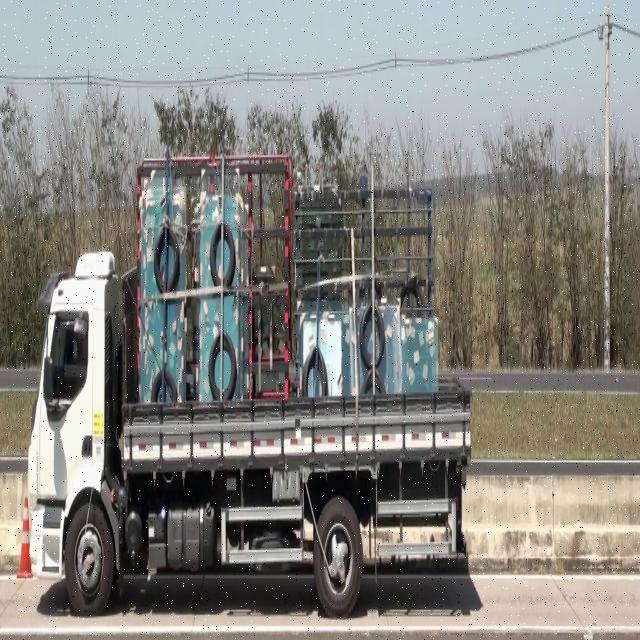-axle: (64, 498, 114, 620), (316, 498, 362, 616)
